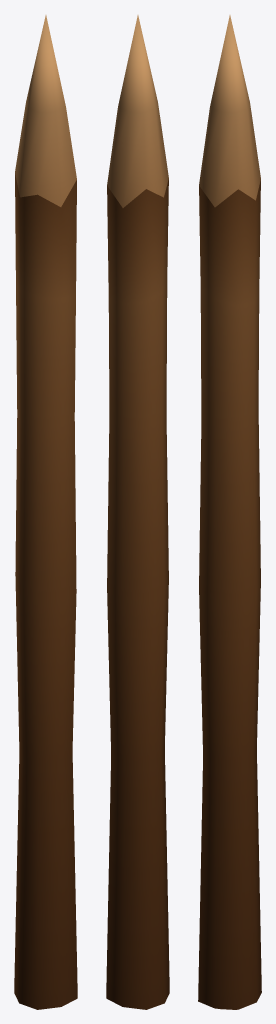
File: Spear_01.glb
3 renders of one model, left to right at view 1: azimuth 30°, elevation 25°; view 2: azimuth 150°, elevation 25°; view 3: azimuth 330°, elevation 25°, orthographic.
Visible parts, largest first — view 1: Spear_01; view 2: Spear_01; view 3: Spear_01.
Boxes of the visible parts, x1,y1,x2,y2 form: Spear_01: (14, 15, 77, 1009); Spear_01: (106, 15, 169, 1009); Spear_01: (198, 15, 261, 1009).
Bounding box in the file's own units: 0.0865 × 1.53 × 0.0866.
1 material, 1 textured.
